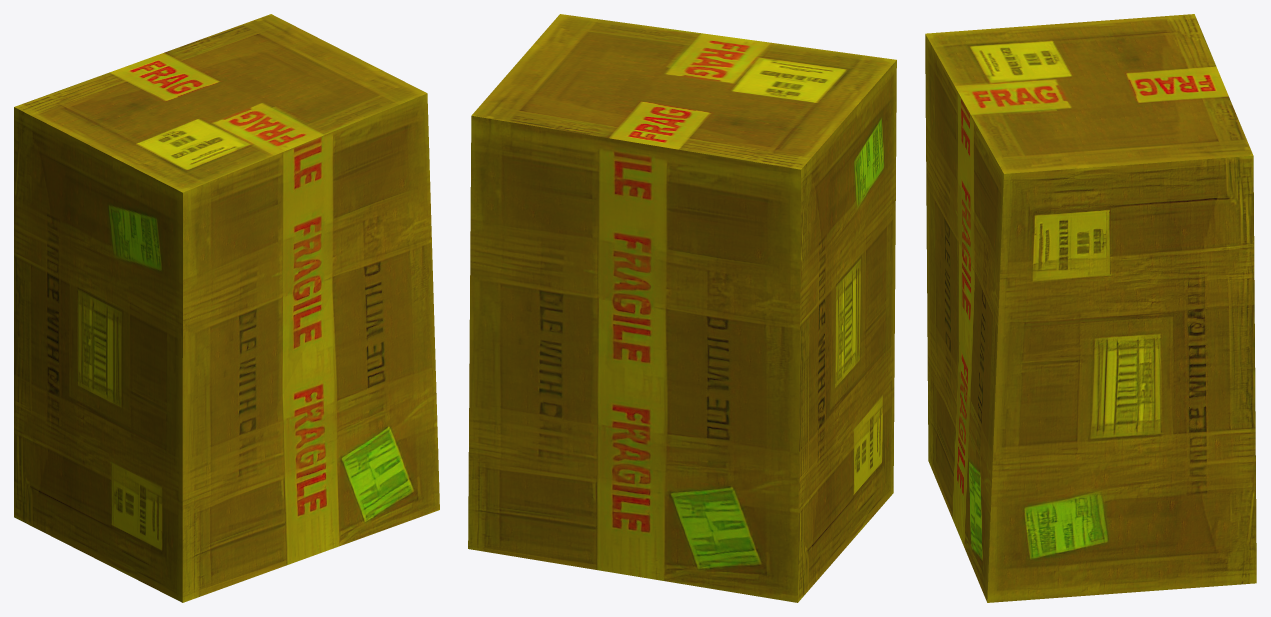
The picture shows the model from 3 angles, left to right: view 1: azimuth 30°, elevation 25°; view 2: azimuth 150°, elevation 25°; view 3: azimuth 270°, elevation 25°; orthographic projection. The views are drawn at different scales.
Parts seen in each view (by area): view 1: x2; view 2: x2; view 3: x2.
Boxes of the visible parts, x1,y1,x2,y2 form: x2: (14, 14, 439, 602); x2: (468, 14, 896, 602); x2: (925, 14, 1256, 602).
Size of the model in its own units: 0.7244 by 0.8799 by 0.6159.
Materials: 1 (1 with a texture image).
